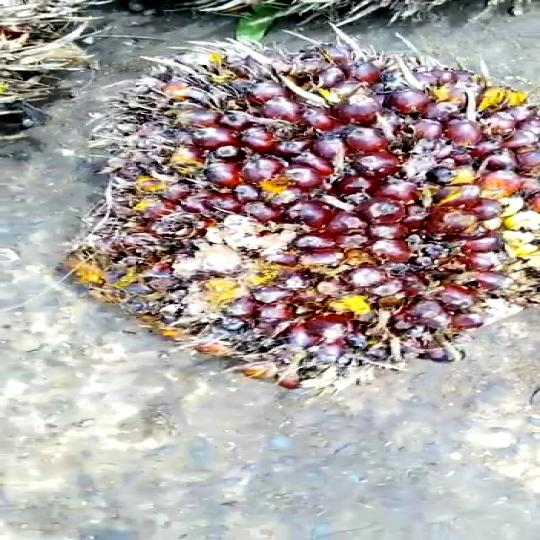masak: (61, 41, 540, 392)
